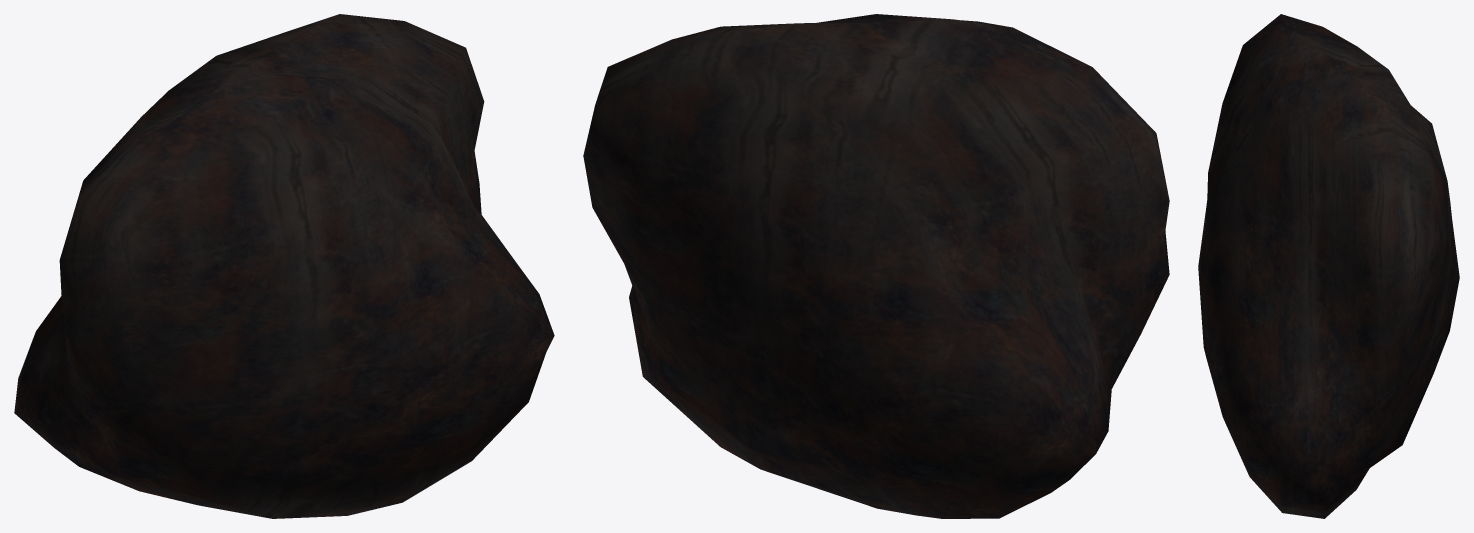
File: rock5.fbx
The picture shows the model from 3 angles, left to right: view 1: azimuth 30°, elevation 25°; view 2: azimuth 150°, elevation 25°; view 3: azimuth 270°, elevation 25°; orthographic projection. The views are drawn at different scales.
Parts seen in each view (by area): view 1: rock5; view 2: rock5; view 3: rock5.
Boxes of the visible parts, x1,y1,x2,y2 form: rock5: (14,14,554,518); rock5: (583,14,1169,518); rock5: (1198,14,1459,518).
Bounding box in the file's own units: 57.83 × 52.81 × 30.29.
